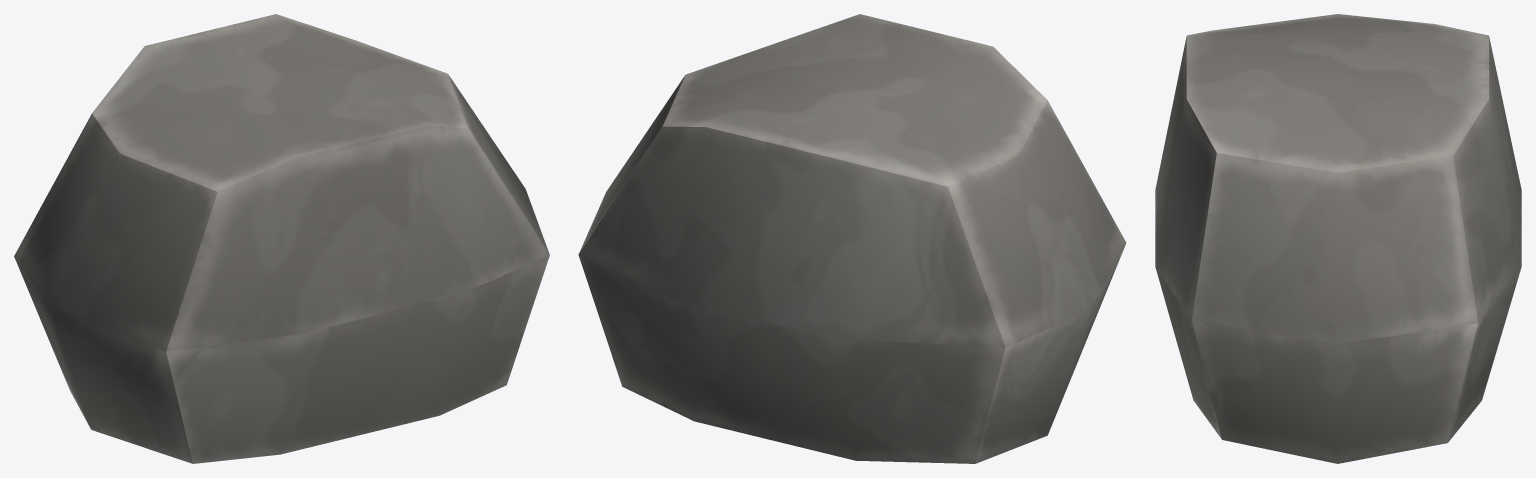
File: SmallStone3.FBX
3 renders of one model, left to right at view 1: azimuth 30°, elevation 25°; view 2: azimuth 150°, elevation 25°; view 3: azimuth 270°, elevation 25°, orthographic. The views are drawn at different scales.
Visible parts, largest first — view 1: SmallStone3; view 2: SmallStone3; view 3: SmallStone3.
Boxes of the visible parts, x1,y1,x2,y2 form: SmallStone3: (14,14,549,463); SmallStone3: (578,14,1126,463); SmallStone3: (1155,14,1521,463).
Size of the model in its own units: 29.64 by 17.57 by 19.83.
